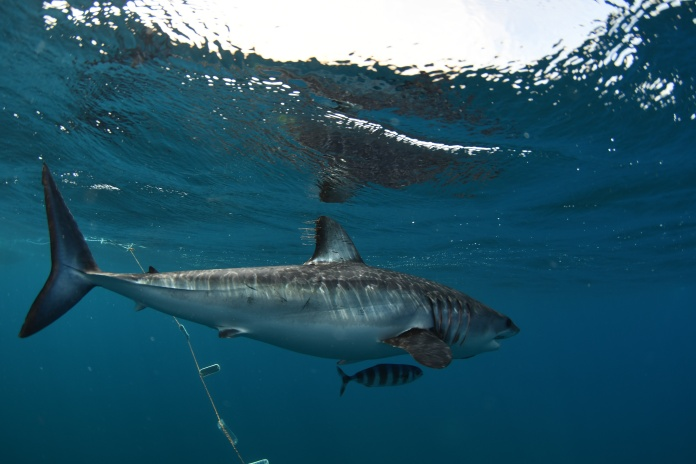Mako: (7, 145, 537, 398)
